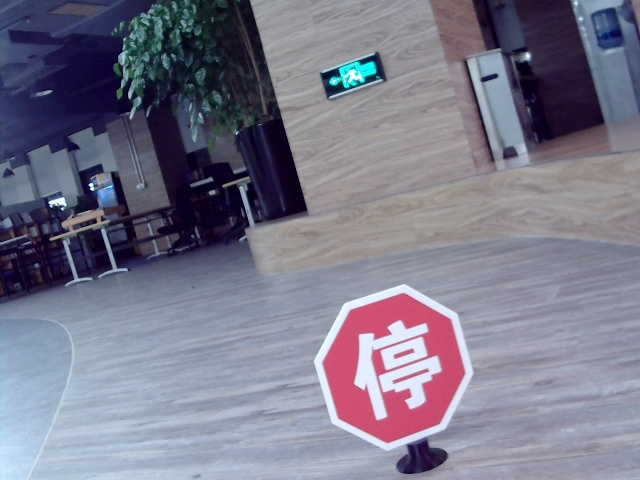stop: (347, 320, 442, 424)
